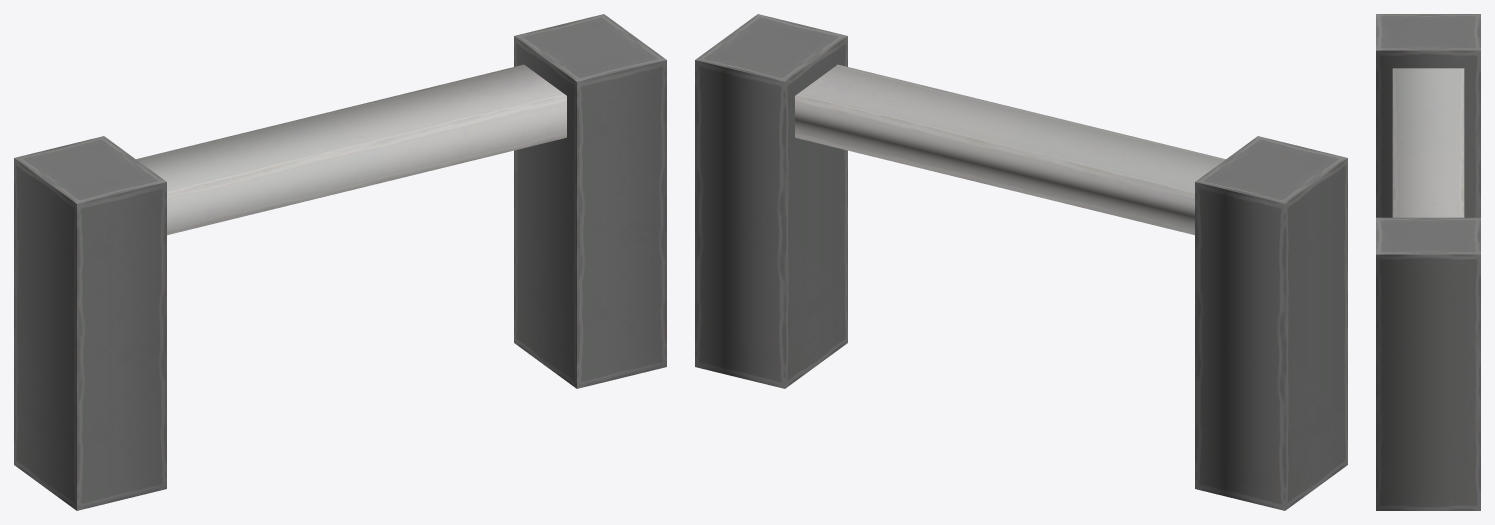
The model's file is SM_Fence_02_B.glb.
3 renders of one model, left to right at view 1: azimuth 30°, elevation 25°; view 2: azimuth 150°, elevation 25°; view 3: azimuth 270°, elevation 25°, orthographic. The views are drawn at different scales.
Visible parts, largest first — view 1: SM_Fence_02_B; view 2: SM_Fence_02_B; view 3: SM_Fence_02_B.
Part boxes in pixels (x1,y1,x2,y2): SM_Fence_02_B: [14, 14, 666, 510]; SM_Fence_02_B: [695, 14, 1347, 510]; SM_Fence_02_B: [1376, 14, 1480, 510].
Size of the model in its own units: 1.18 by 0.5867 by 0.2177.
Materials: 1 (1 with a texture image).
